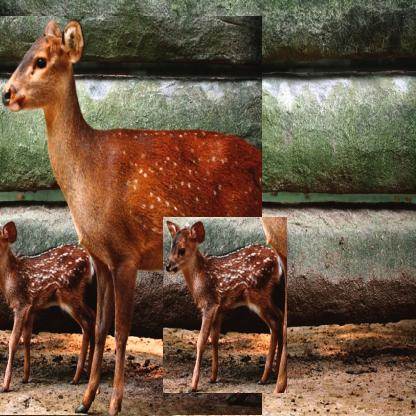Deer: (0, 16, 262, 415), (163, 217, 287, 393)
